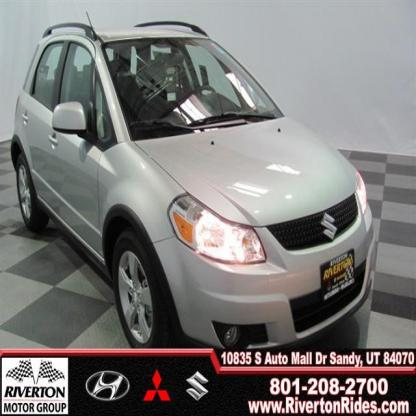car: (12, 13, 379, 365)
